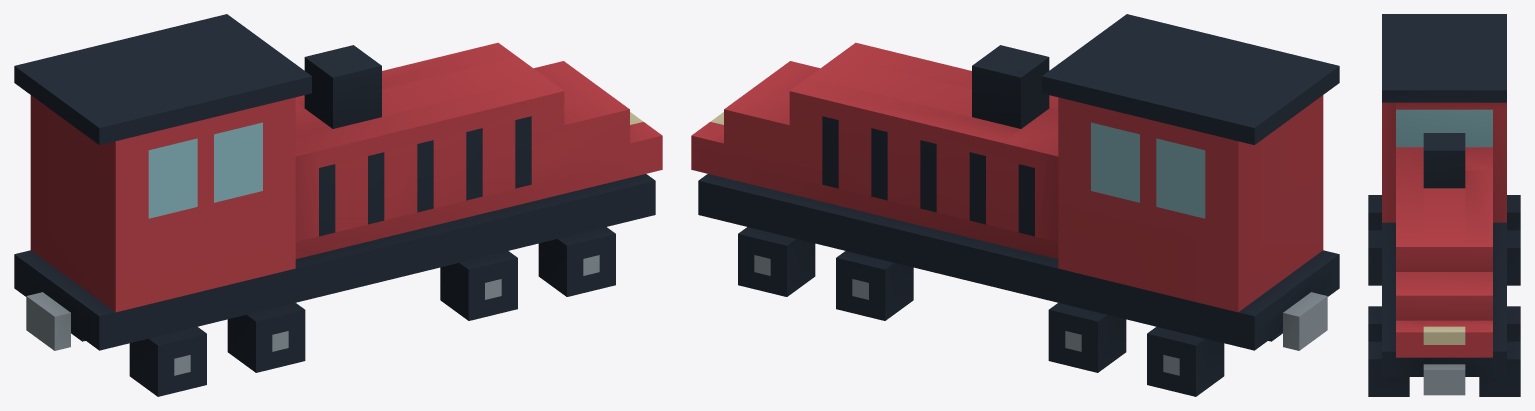
File: train_engine.glb
3 views of the same model, side by side, from view 1: azimuth 30°, elevation 25°; view 2: azimuth 150°, elevation 25°; view 3: azimuth 270°, elevation 25° (orthographic). The views are drawn at different scales.
Visible parts, largest first — view 1: train_engine_body; view 2: train_engine_body; view 3: train_engine_body.
Part boxes in pixels (x1=…): train_engine_body: x1=14, y1=14, x2=662, y2=396; train_engine_body: x1=691, y1=14, x2=1339, y2=396; train_engine_body: x1=1368, y1=14, x2=1520, y2=396.
Bounding box in the file's own units: 3 × 1.33 × 0.9167.
